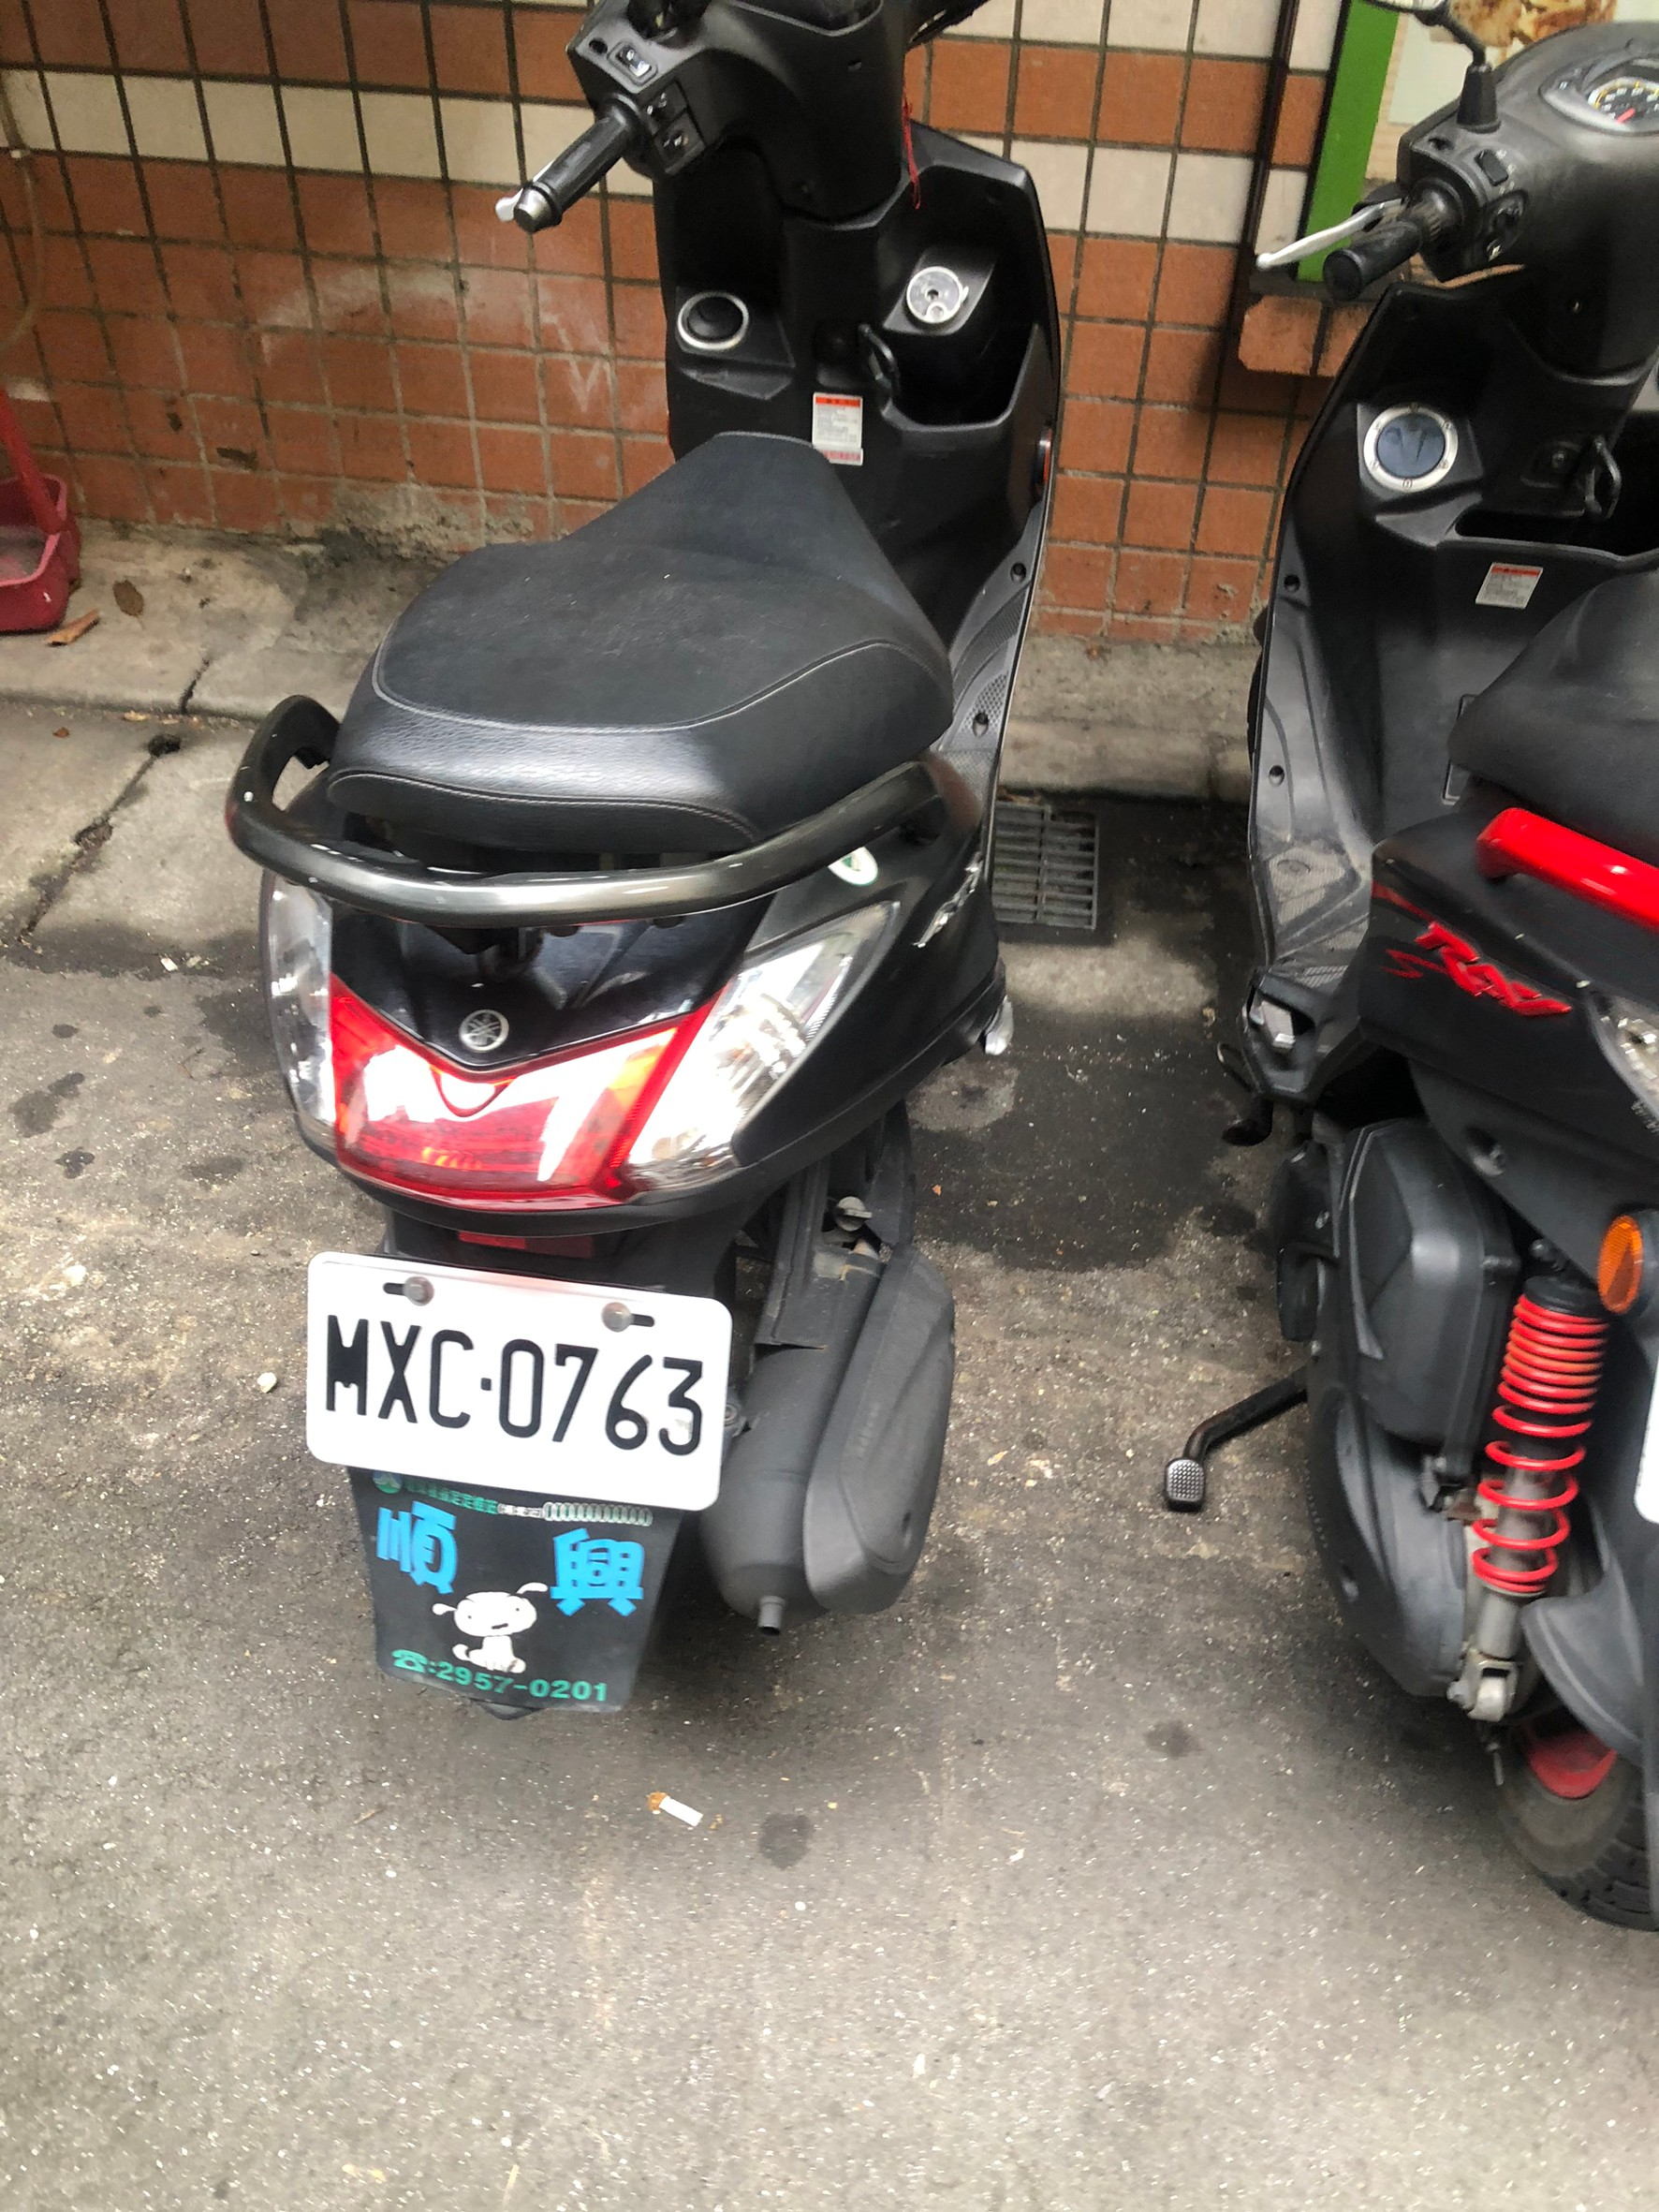LP: (297, 1243, 733, 1509)
